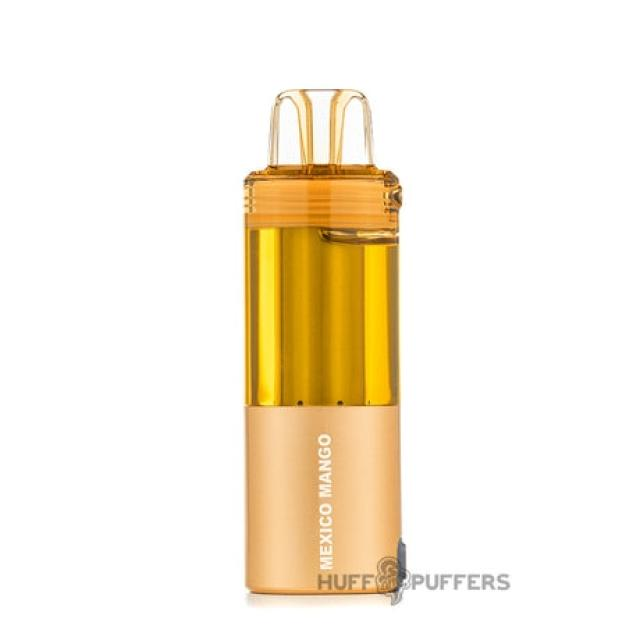Vape-images: (241, 86, 405, 597)
